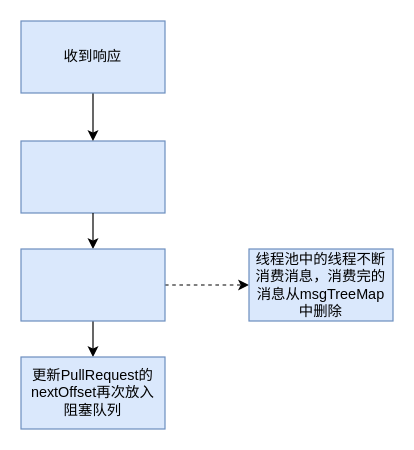
The diagram is 414 pixels wide and 450 high, and some of its shapes have lost their labels. The shapes that lost their labels are listed below. From the top down, each one's centre as x and y in pixels, then its label:
the point at 92,176: 获取到消息内容以及下次应该拉取的offset
the point at 92,284: 将消息放到msgTreeMap
